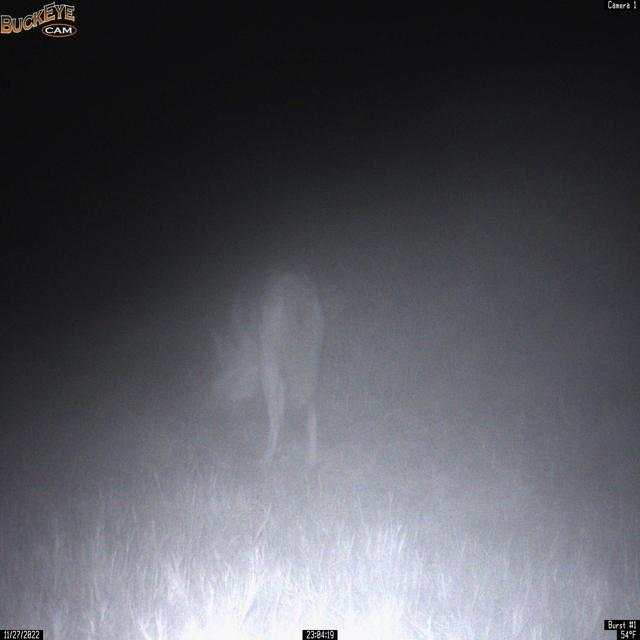coyote: (206, 265, 329, 472)
